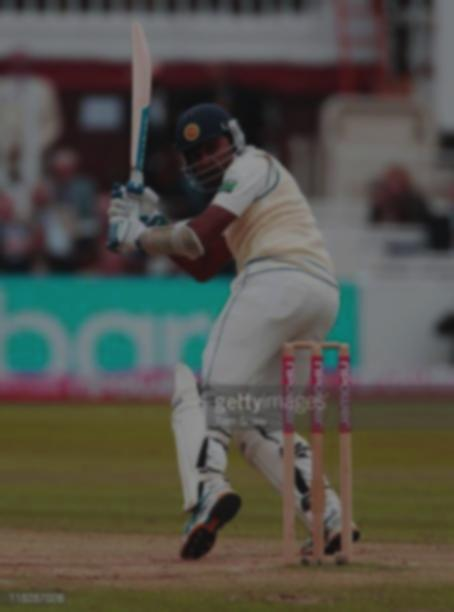batsman: (113, 54, 384, 594)
